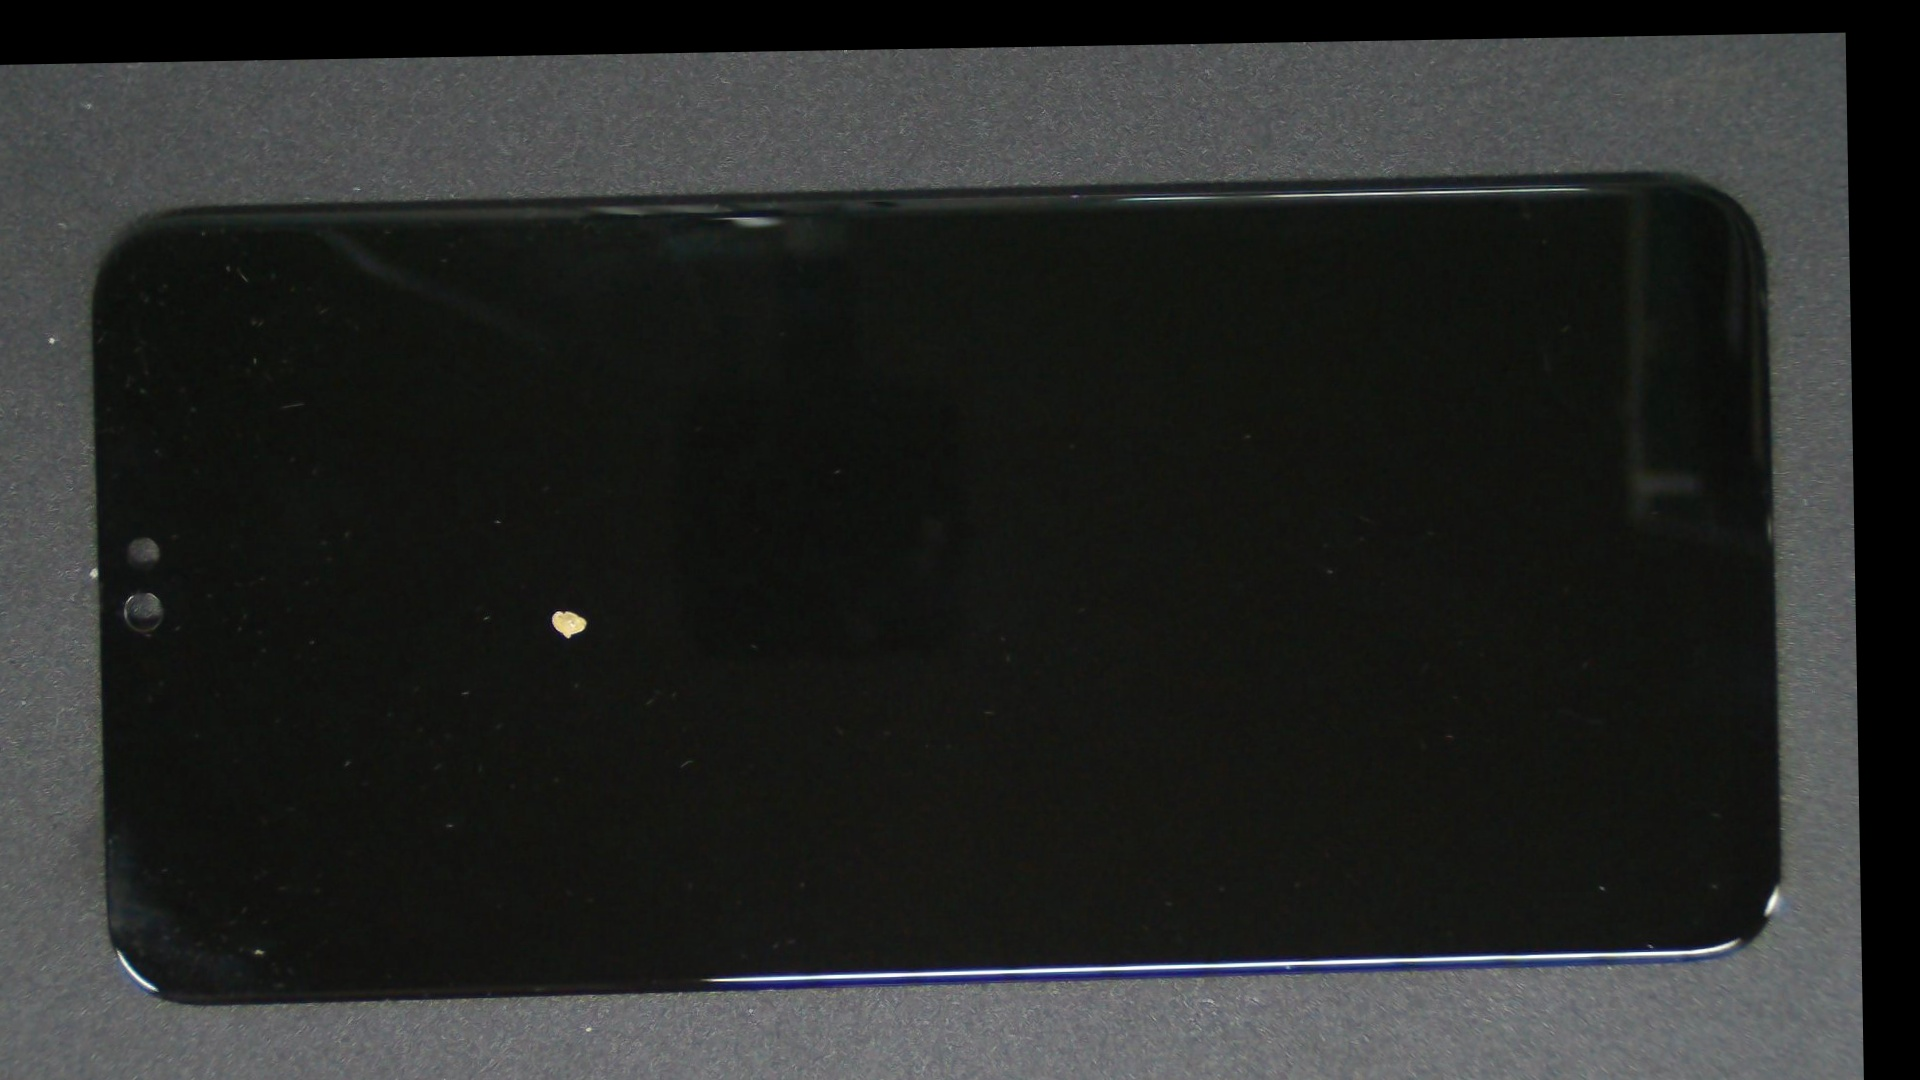oil: (261, 326, 851, 894)
